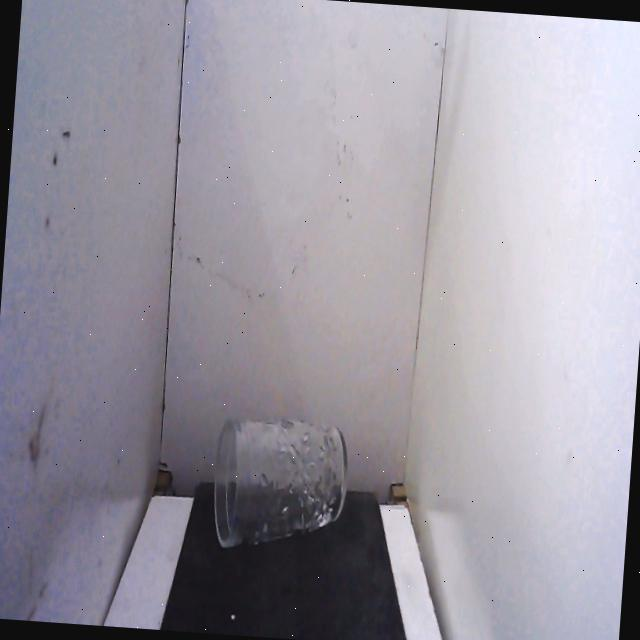glass: (196, 400, 359, 568)
